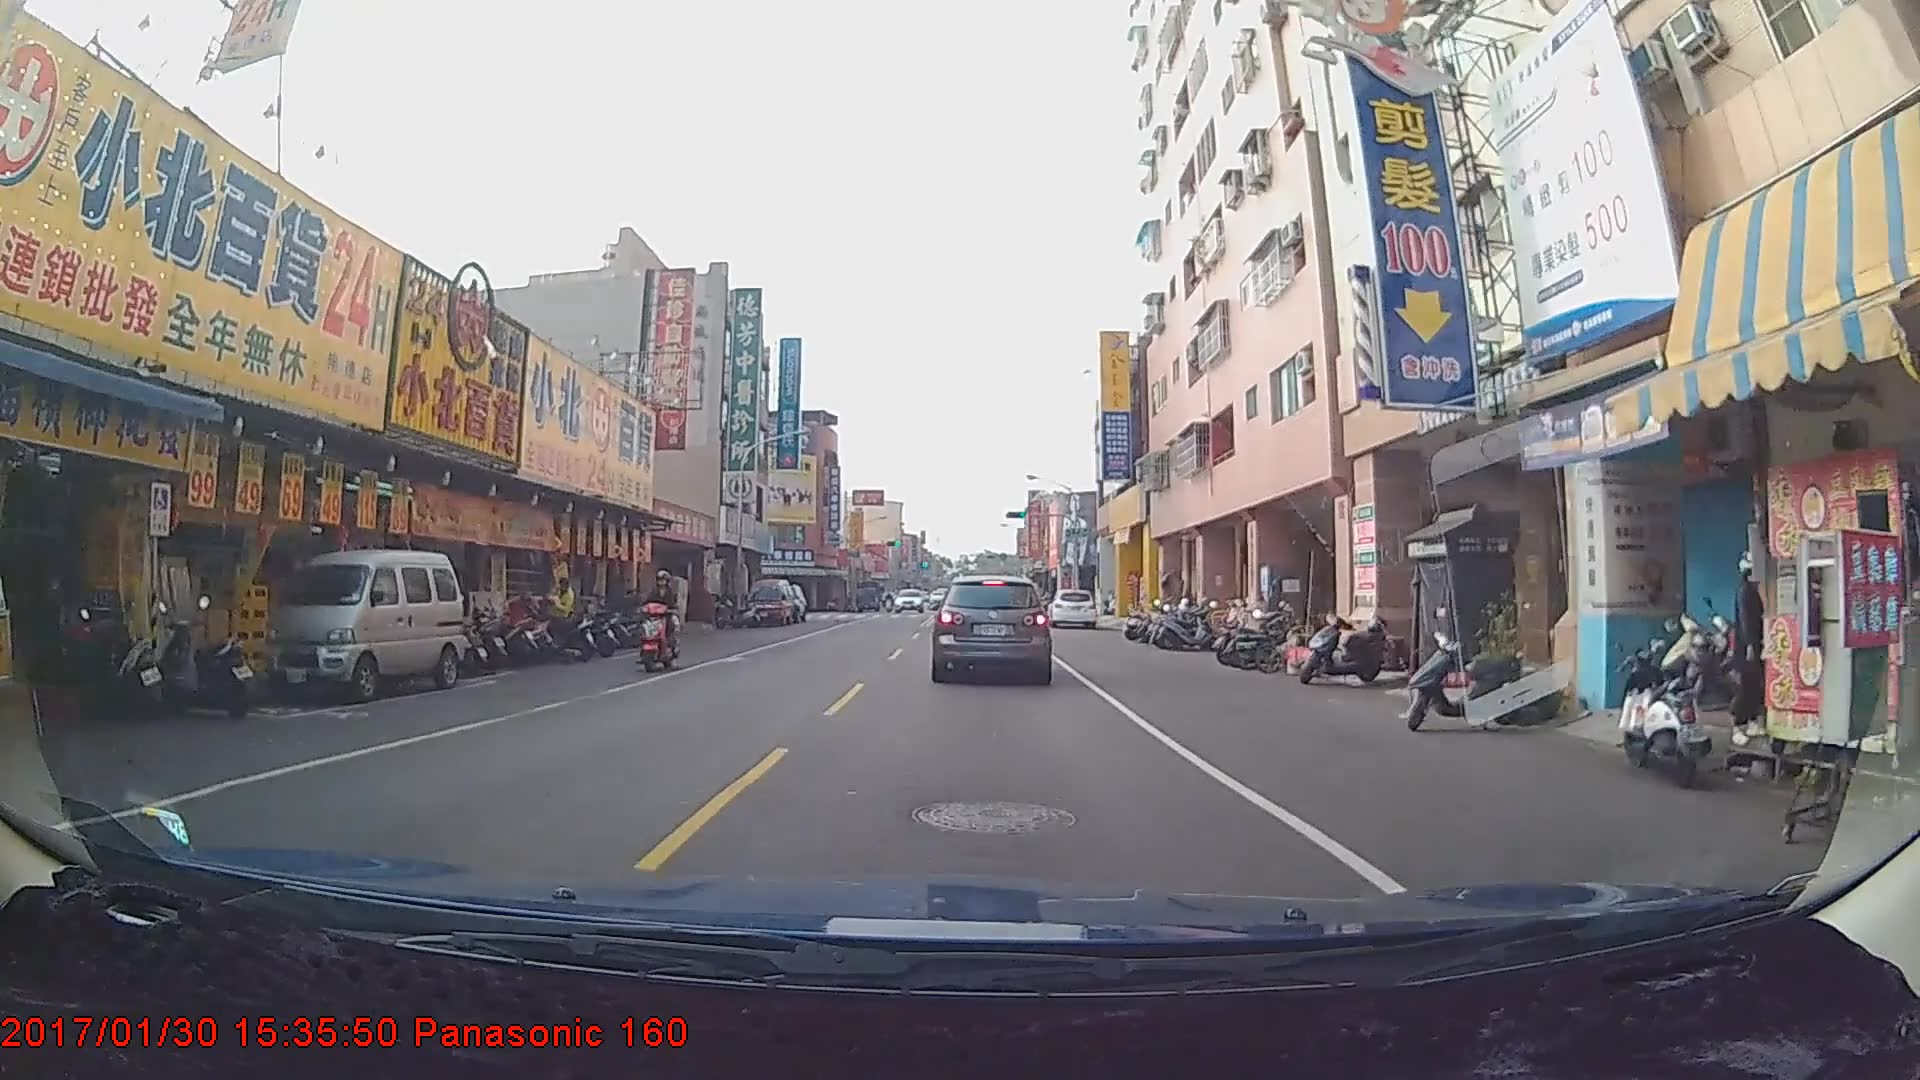pedestrian: (541, 571, 579, 656)
rider: (631, 566, 688, 670)
vehicle: (265, 552, 463, 696), (935, 569, 1050, 683), (743, 577, 794, 625), (1045, 588, 1096, 630), (892, 580, 922, 604)
